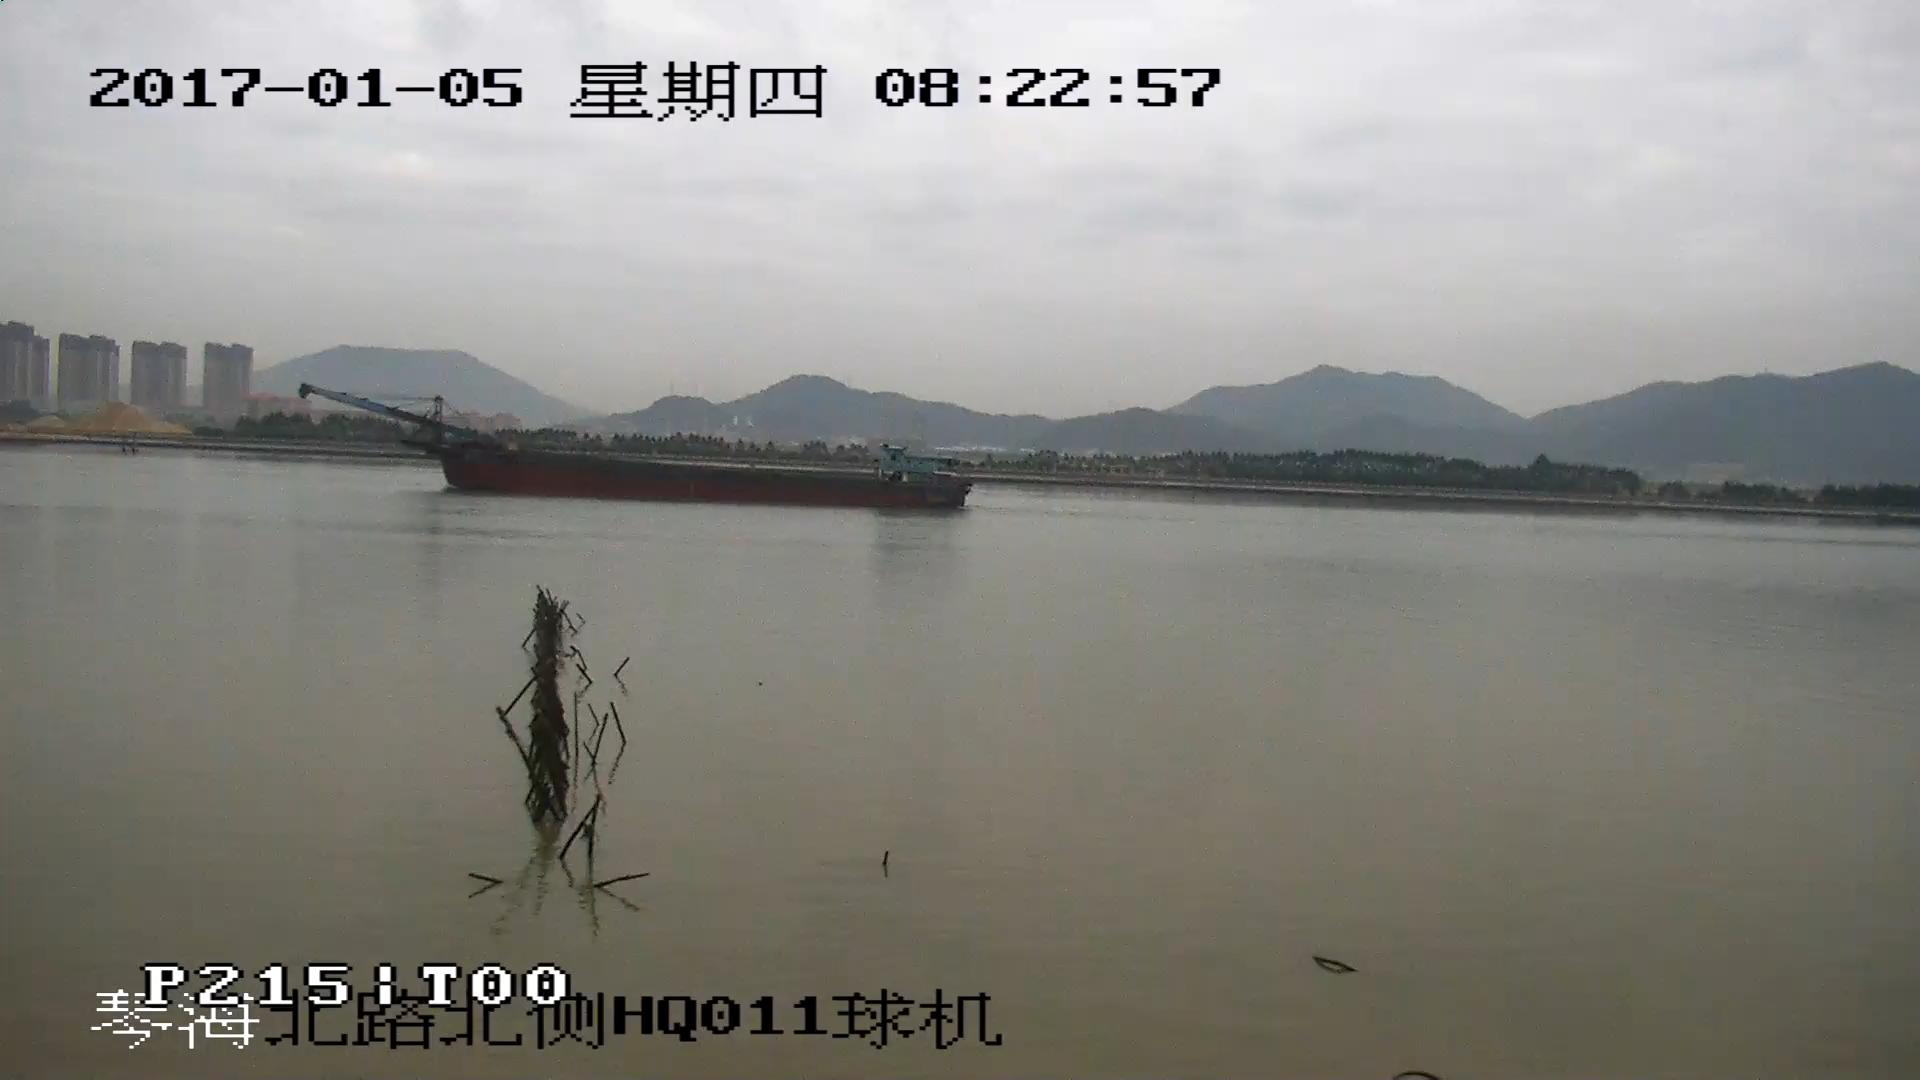bulk cargo carrier: (297, 385, 972, 508)
